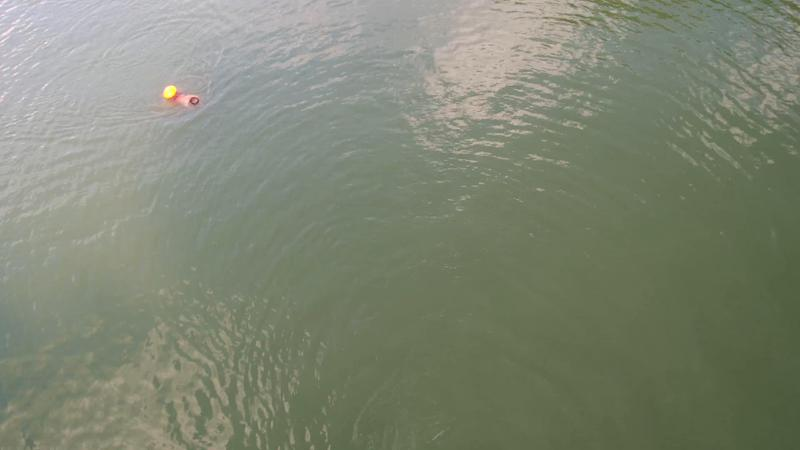swimmers: (156, 83, 201, 112)
